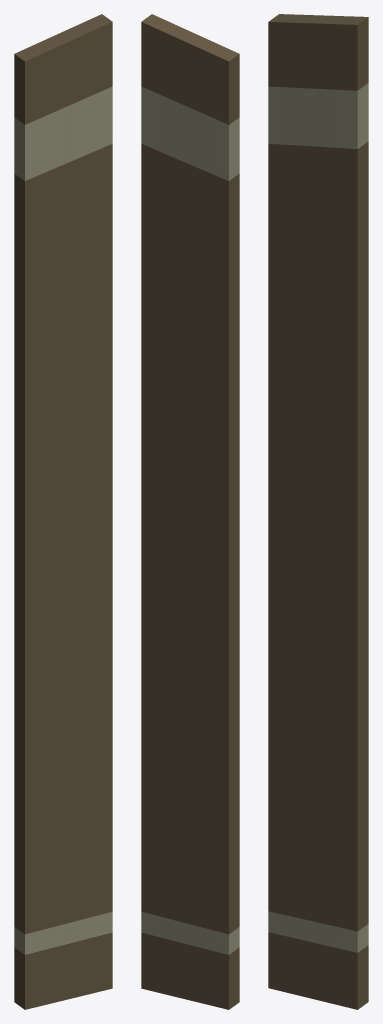
The model's file is Wood_7A.fbx.
3 renders of one model, left to right at view 1: azimuth 30°, elevation 25°; view 2: azimuth 150°, elevation 25°; view 3: azimuth 330°, elevation 25°, orthographic.
Parts seen in each view (by area): view 1: pCube611; view 2: pCube611; view 3: pCube611.
Part boxes in pixels (x1,y1,x2,y2): pCube611: (14, 14, 112, 1009); pCube611: (141, 14, 239, 1009); pCube611: (268, 14, 368, 1009).
Bounding box in the file's own units: 24 × 253 × 5.04.
